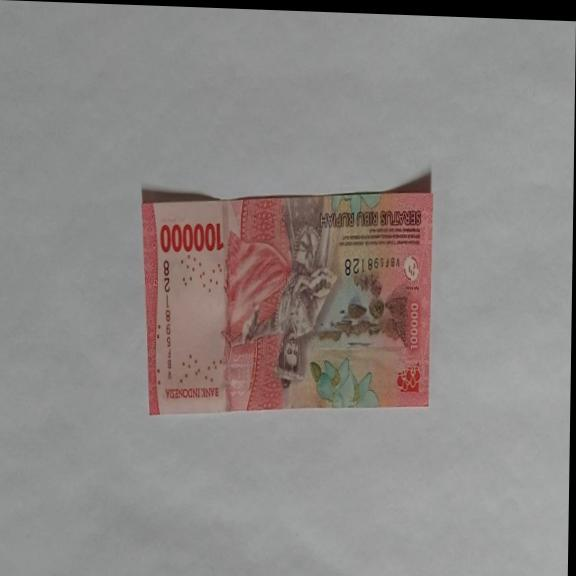Kertas: (138, 169, 434, 426), (159, 218, 224, 255)
